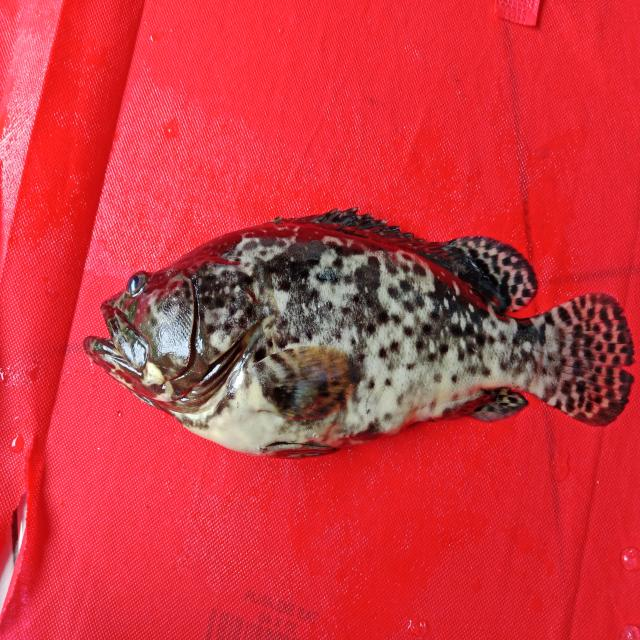ikan: (71, 191, 632, 478)
